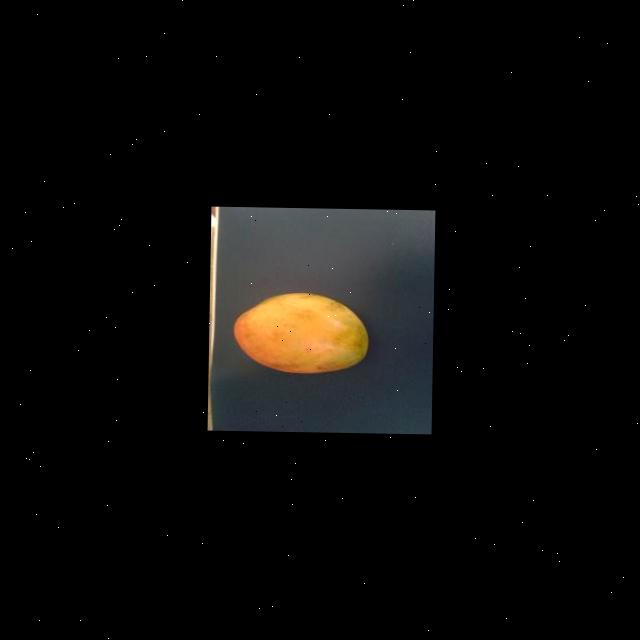Mango: (230, 292, 368, 374)
